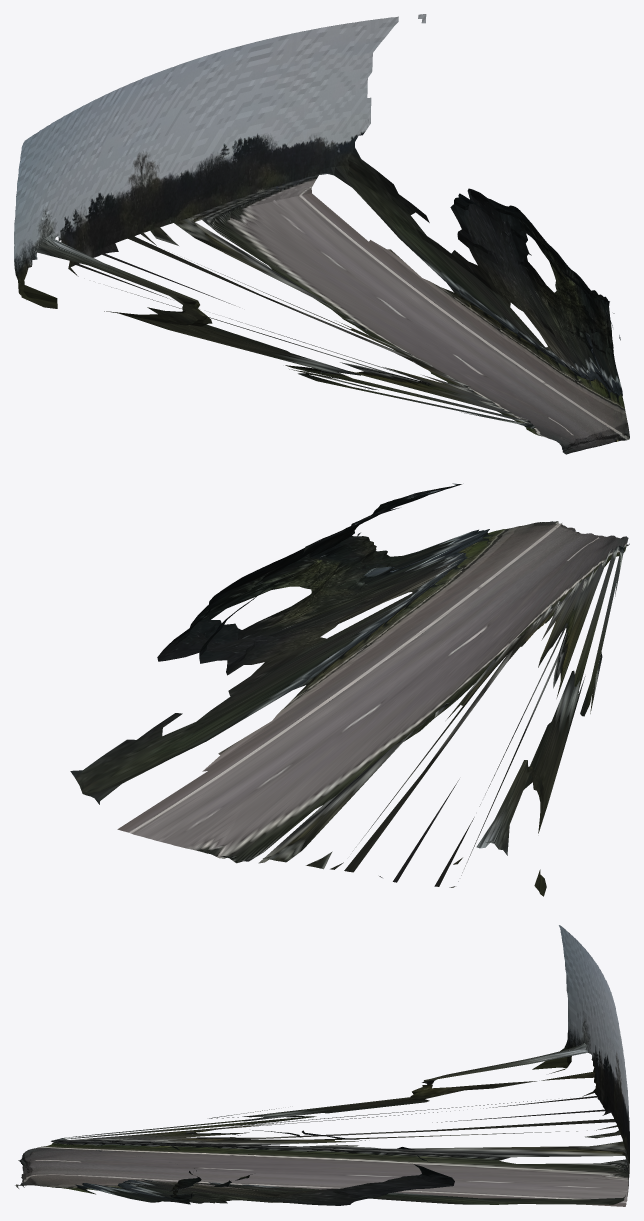
3 views of the same model, one above another, from view 1: azimuth 30°, elevation 25°; view 2: azimuth 150°, elevation 25°; view 3: azimuth 270°, elevation 25° (orthographic). The views are drawn at different scales.
Visible parts, largest first — view 1: defaultobject; view 2: defaultobject; view 3: defaultobject.
Boxes of the visible parts, left/top/right/bottom form: defaultobject: left=14, top=14, right=629, bottom=454; defaultobject: left=70, top=483, right=629, bottom=896; defaultobject: left=15, top=925, right=629, bottom=1206.
Size of the model in its own units: 32.16 by 12.45 by 44.78.
Materials: 1 (1 with a texture image).
